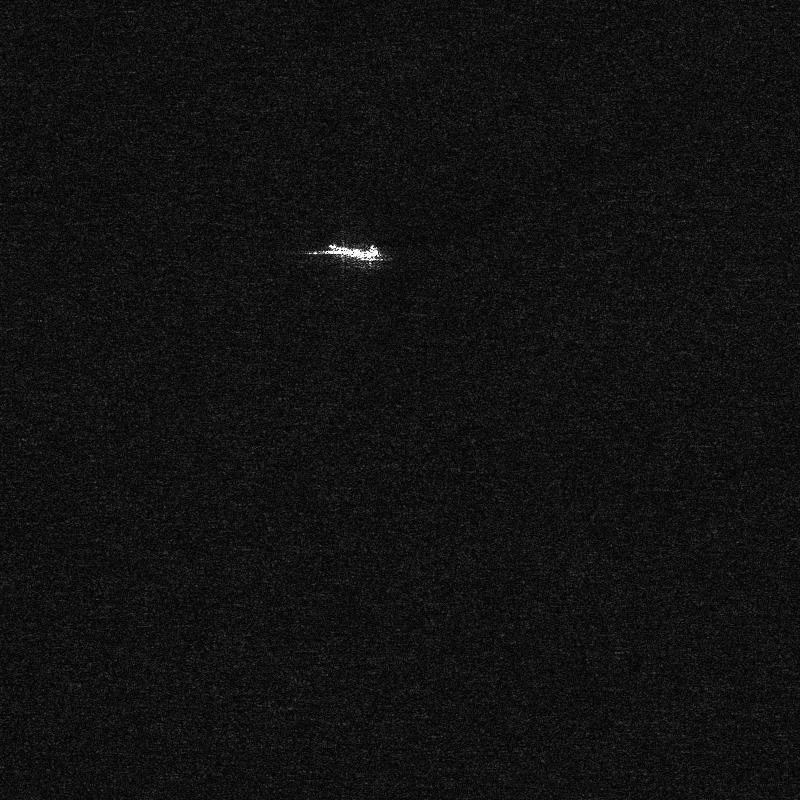ship: (324, 244, 380, 261)
